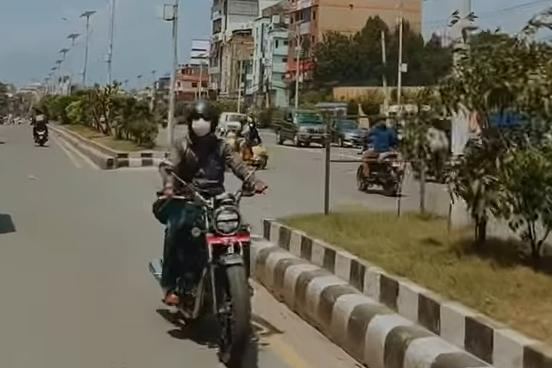bike: (142, 153, 264, 368), (353, 135, 406, 201)
